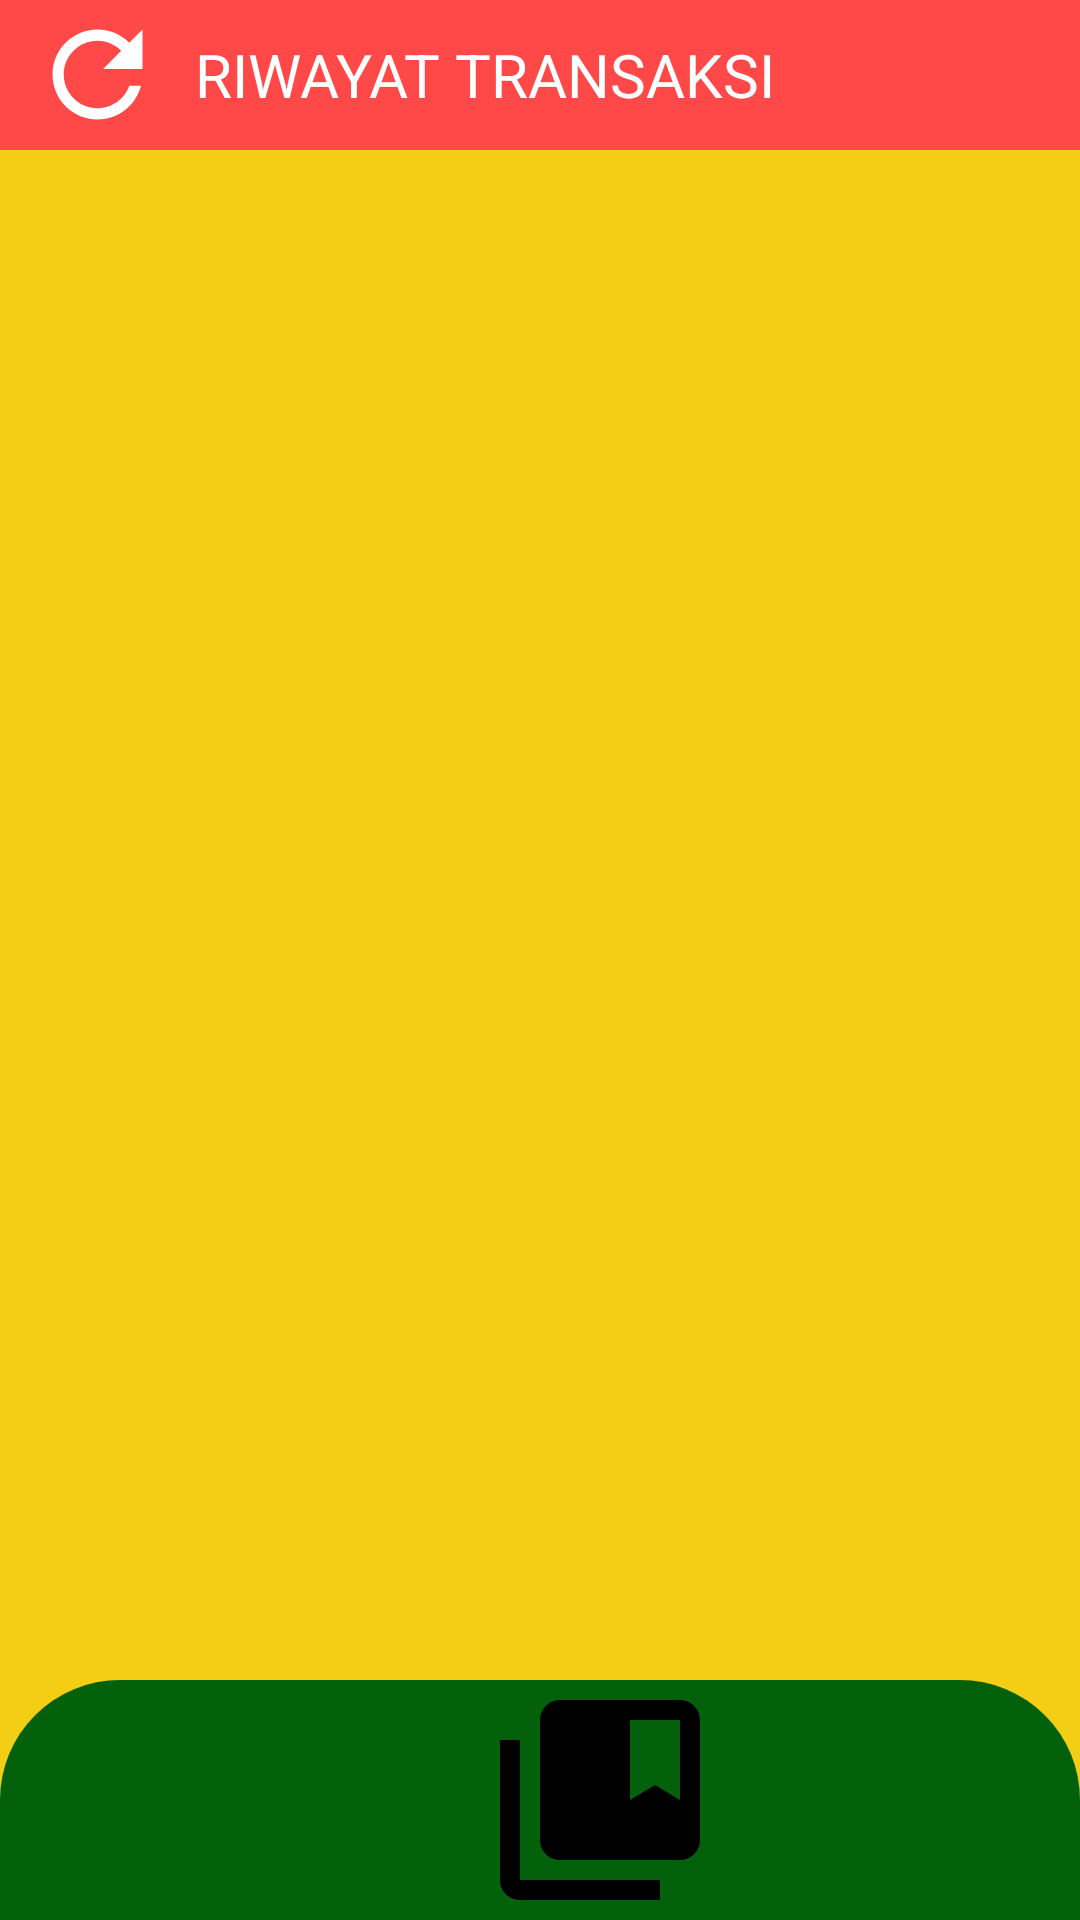

Locate icon controls on the screen. Image size 1080px×1920px, boxes as box(x1, y1, x2, y2).
collections bookmark: box(500, 1700, 700, 1900)
refresh: box(52, 29, 143, 120)
